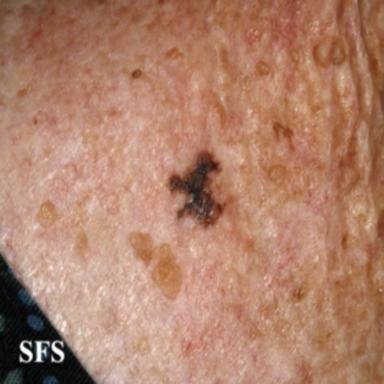Melanoma: (169, 151, 223, 226)
